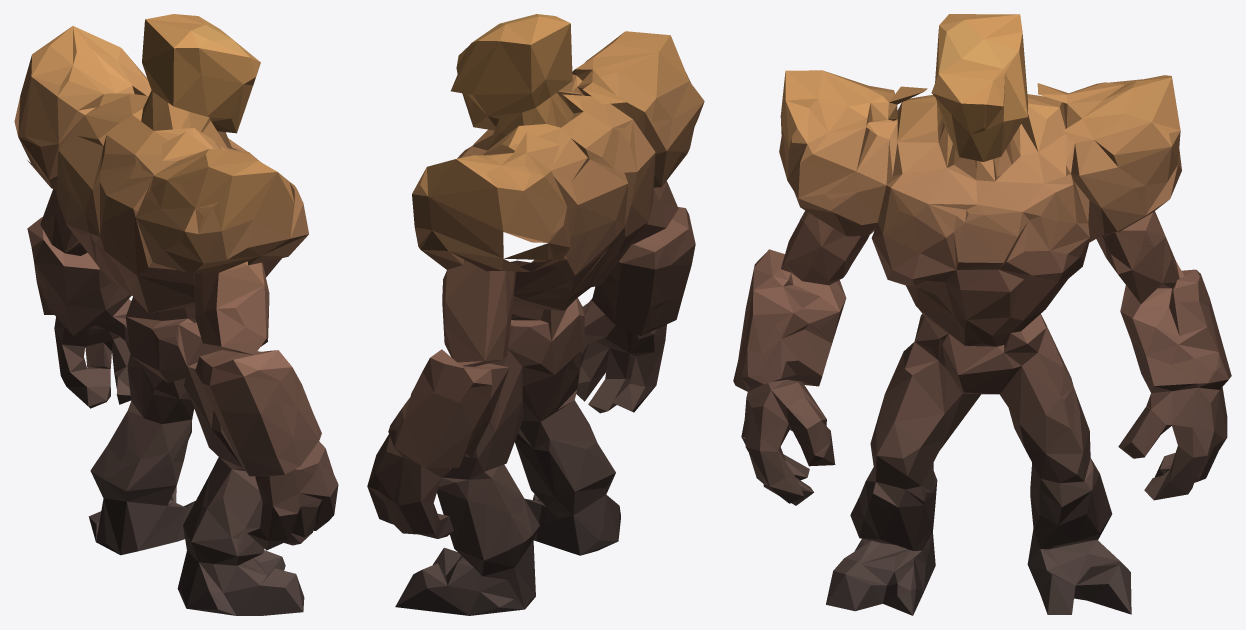
Rendered from m-forja-golem.glb.
3 views of the same model, side by side, from view 1: azimuth 30°, elevation 25°; view 2: azimuth 150°, elevation 25°; view 3: azimuth 270°, elevation 25° (orthographic). The views are drawn at different scales.
Bounding box in the file's own units: 0.6742 × 2 × 1.6.
